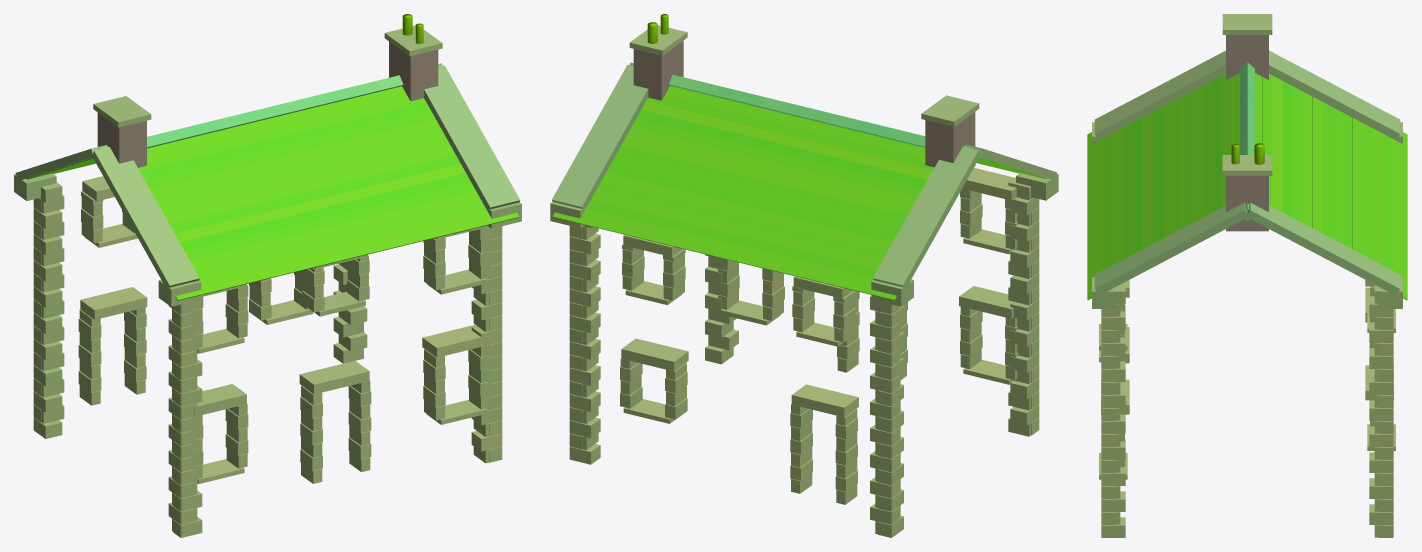
File: SM_Bld_107_Stone.glb
3 views of the same model, side by side, from view 1: azimuth 30°, elevation 25°; view 2: azimuth 150°, elevation 25°; view 3: azimuth 270°, elevation 25° (orthographic).
Parts seen in each view (by area): view 1: SM_Bld_107_Stone; view 2: SM_Bld_107_Stone; view 3: SM_Bld_107_Stone.
Boxes of the visible parts, x1,y1,x2,y2 form: SM_Bld_107_Stone: [14, 14, 521, 537]; SM_Bld_107_Stone: [550, 14, 1058, 537]; SM_Bld_107_Stone: [1087, 14, 1407, 537].
Size of the model in its own units: 8.39 by 8.89 by 6.7.
